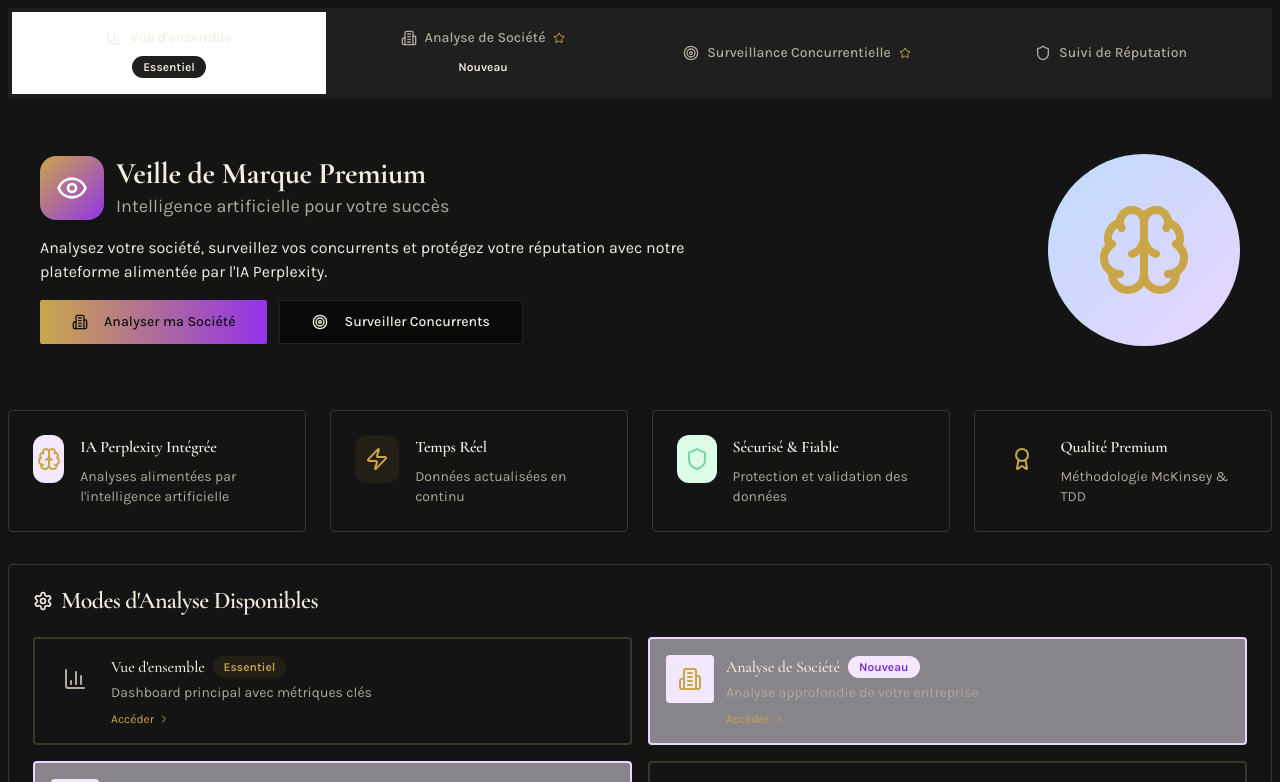
Test: 🚀 ENHANCED BRAND MONITORING - TESTS TDD PREMIUM › 🧭 Navigation entre Onglets › 🛡️ DOIT naviguer vers le Suivi de Réputation
The width and height of the screenshot is (1280, 782).
Step 1. Click the tab with test id "tab-reputation-tracking" → (1111, 53), box [954,27,1268,79]
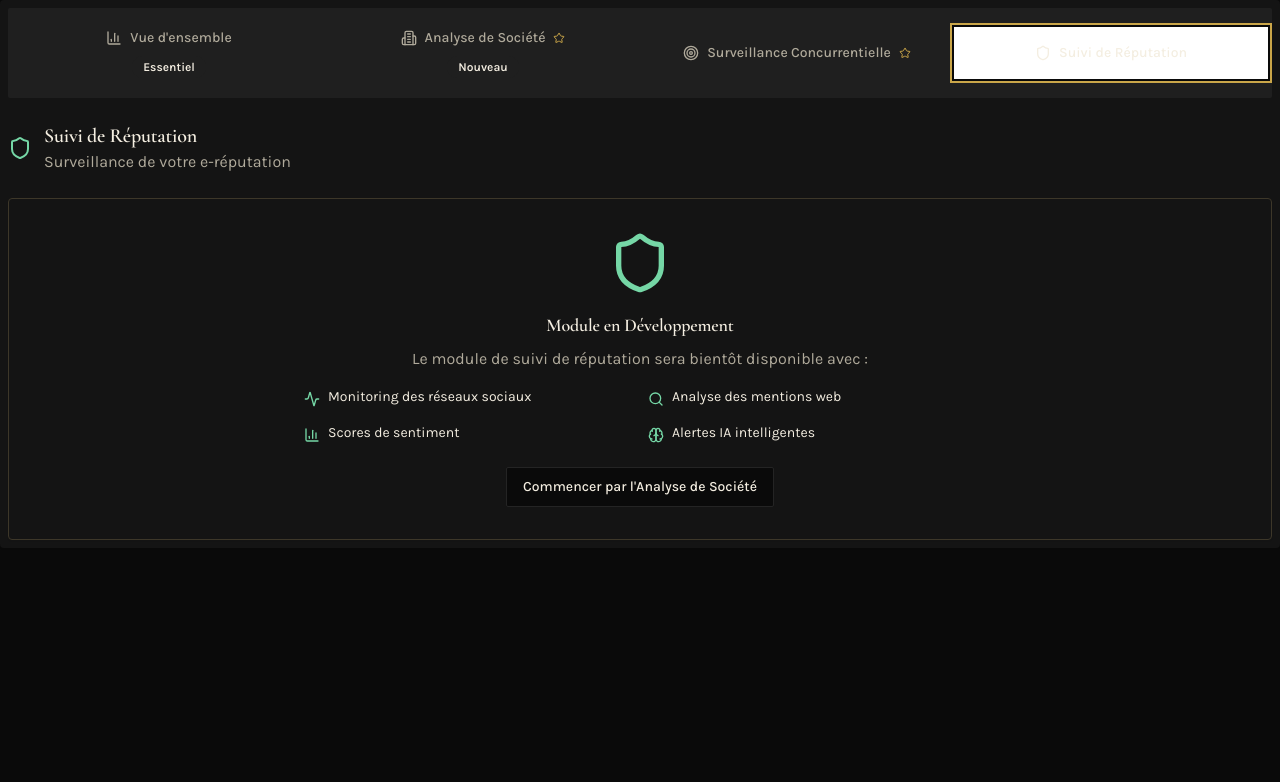
Result: the heading "Module en Développement" is shown at [546,314,734,336]
